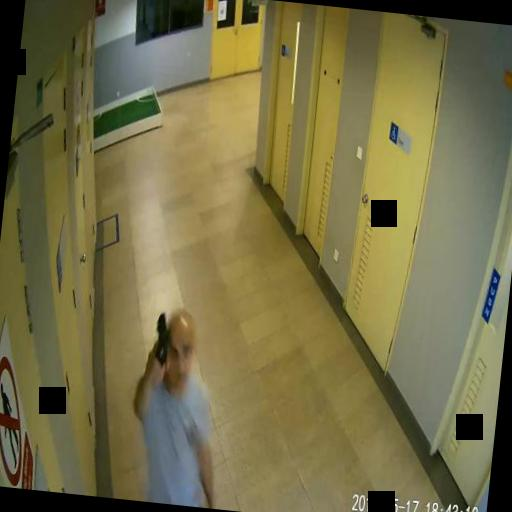Handgun: (149, 310, 171, 374)
